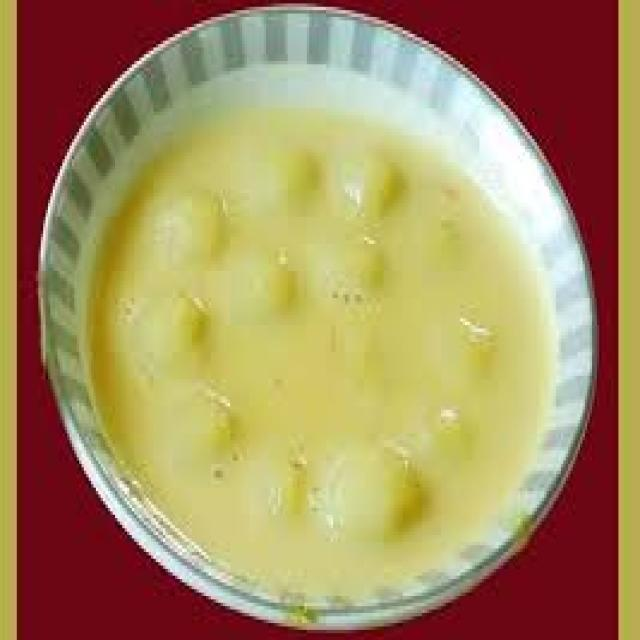paal kolukattai: (80, 114, 538, 569)
